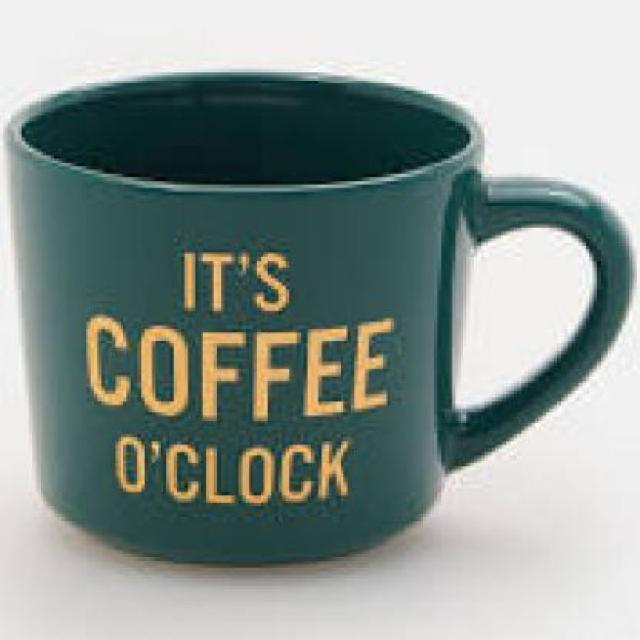cup: (0, 69, 636, 575)
